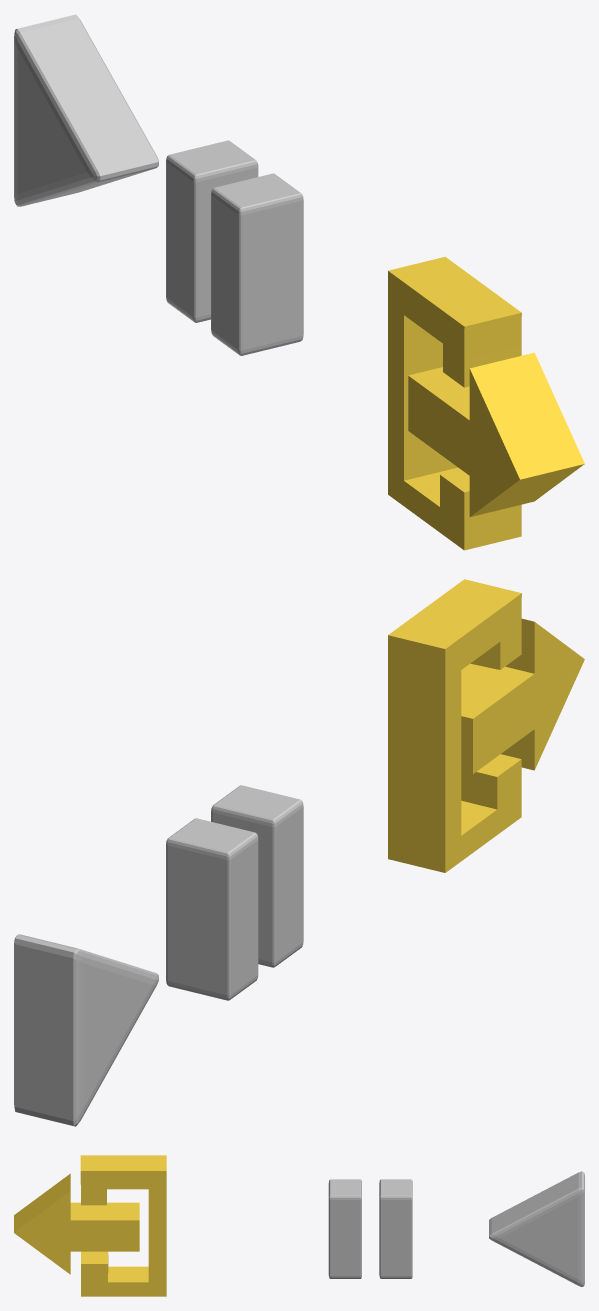
The model's file is playControl.obj.
3 views of the same model, one above another, from view 1: azimuth 30°, elevation 25°; view 2: azimuth 150°, elevation 25°; view 3: azimuth 270°, elevation 25° (orthographic). The views are drawn at different scales.
Parts seen in each view (by area): view 1: Exit_Plane.001, Pause_Cube.002, Play_Cylinder; view 2: Exit_Plane.001, Pause_Cube.002, Play_Cylinder; view 3: Exit_Plane.001, Pause_Cube.002, Play_Cylinder.
Part boxes in pixels (left/top/right/bottom): Exit_Plane.001: left=388, top=256, right=584, bottom=550; Pause_Cube.002: left=166, top=140, right=303, bottom=355; Play_Cylinder: left=14, top=14, right=158, bottom=206; Exit_Plane.001: left=388, top=579, right=584, bottom=872; Pause_Cube.002: left=166, top=785, right=303, bottom=1000; Play_Cylinder: left=14, top=934, right=158, bottom=1126; Exit_Plane.001: left=14, top=1155, right=166, bottom=1296; Pause_Cube.002: left=328, top=1179, right=412, bottom=1278; Play_Cylinder: left=489, top=1171, right=584, bottom=1286.
Size of the model in its own units: 0.2149 by 0.7013 by 2.89.
